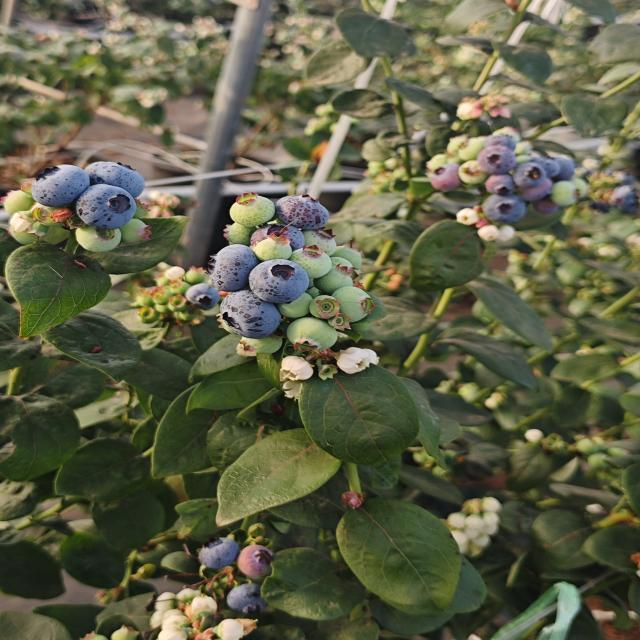ripe: (27, 152, 91, 208), (81, 147, 146, 199), (210, 294, 282, 340), (72, 180, 136, 228), (276, 192, 342, 235), (204, 243, 259, 291), (245, 263, 304, 305), (516, 144, 579, 180), (193, 533, 244, 576), (217, 580, 270, 618), (474, 133, 523, 174), (490, 184, 528, 218), (182, 277, 222, 309), (611, 185, 640, 209)
